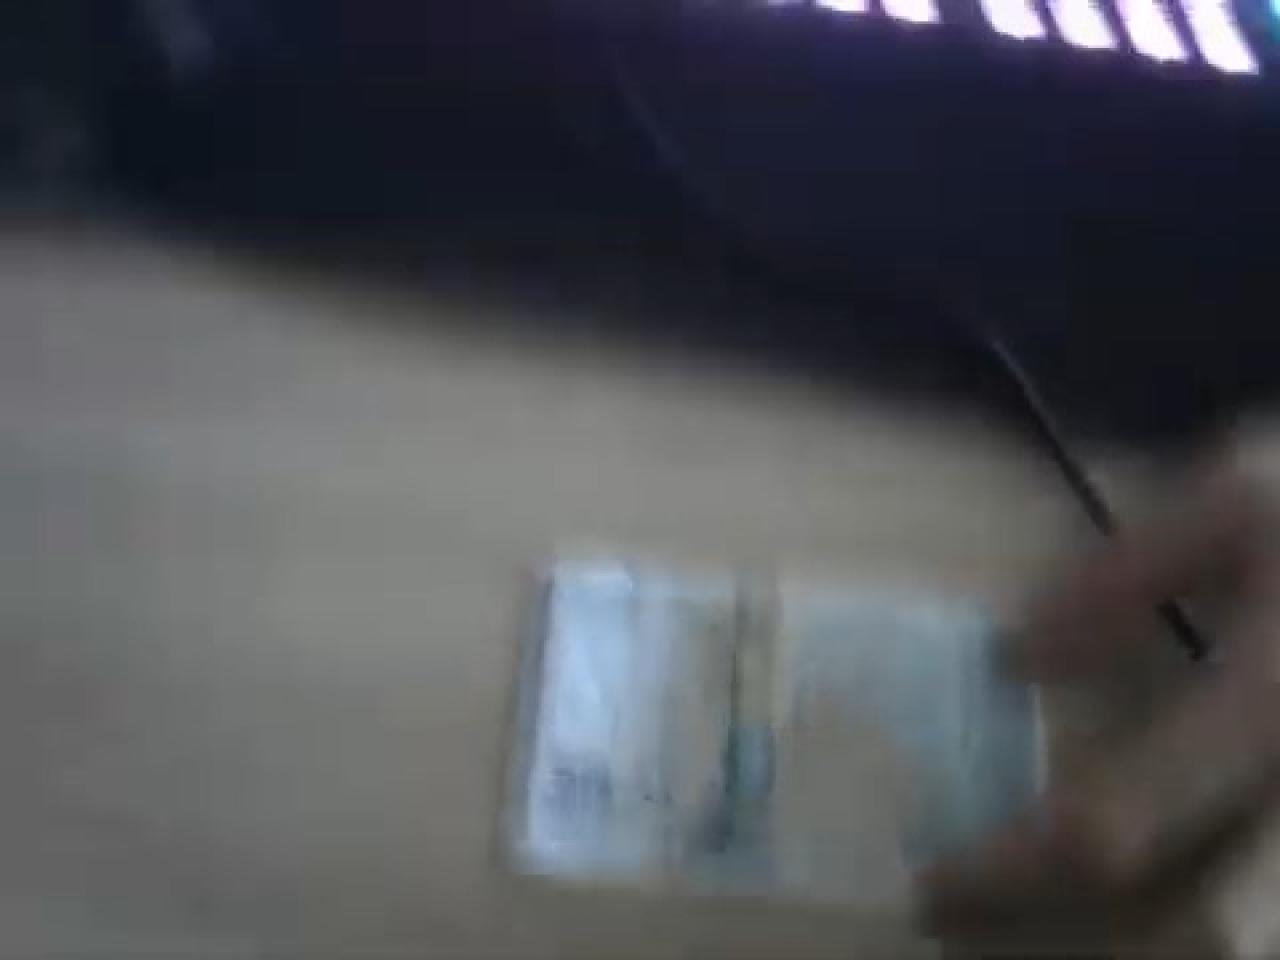20leva: (413, 435, 1280, 960)
